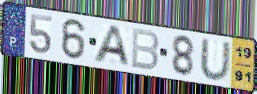5: (29, 12, 55, 55)
6: (59, 17, 88, 62)
8: (171, 34, 197, 78)
A: (91, 24, 132, 68)
B: (129, 27, 161, 73)
U: (199, 38, 233, 83)
